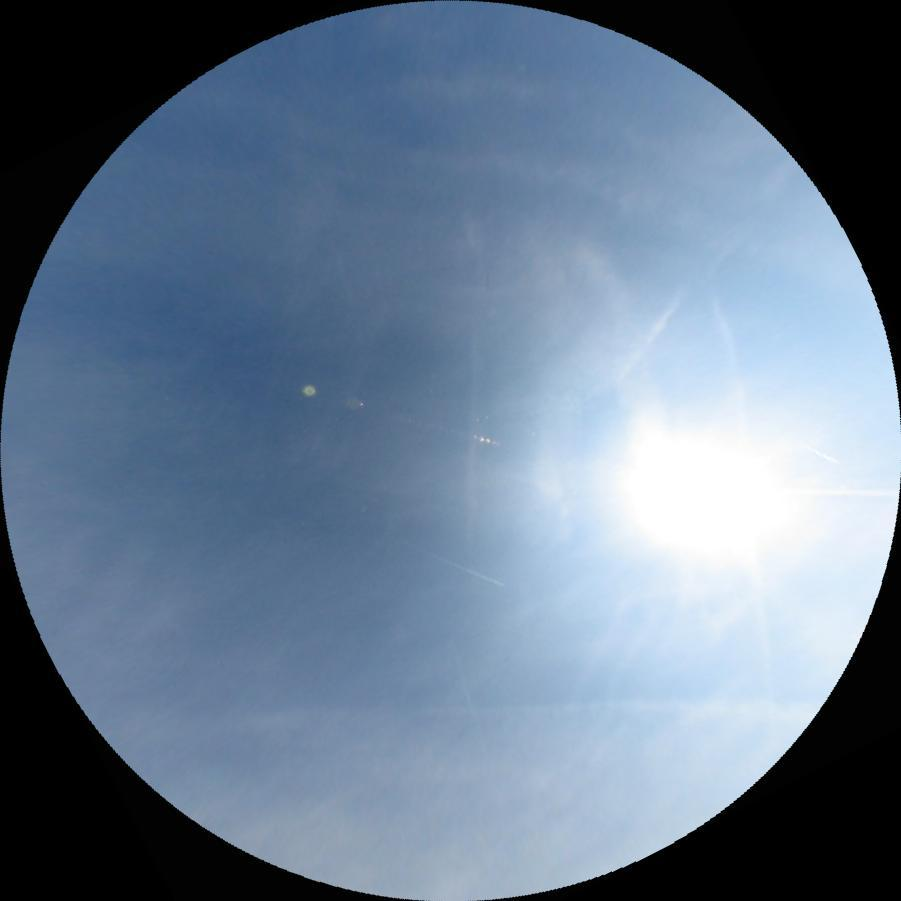contrail veryold: (710, 295, 785, 697)
contrail young: (422, 552, 503, 586), (803, 446, 837, 464)
parasite: (777, 488, 900, 495)
sun: (607, 420, 795, 577)
